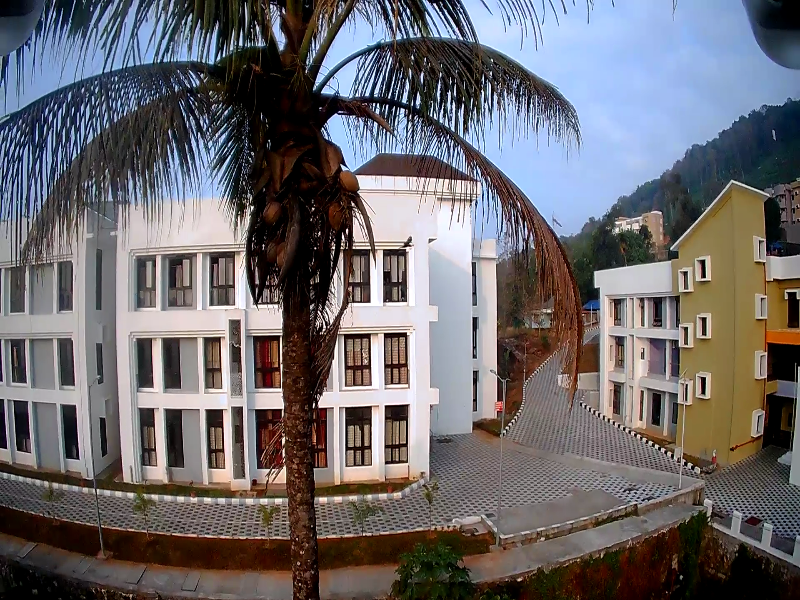coconut: (338, 165, 358, 195), (326, 202, 344, 227), (256, 197, 274, 218), (256, 237, 274, 253)
